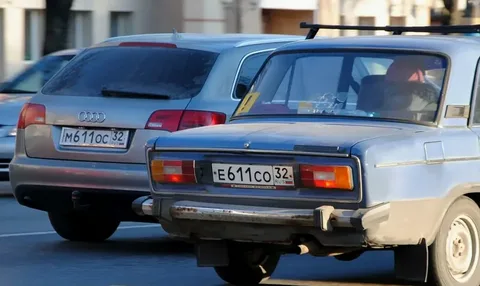number_plate: (214, 163, 293, 183), (59, 126, 131, 145)
